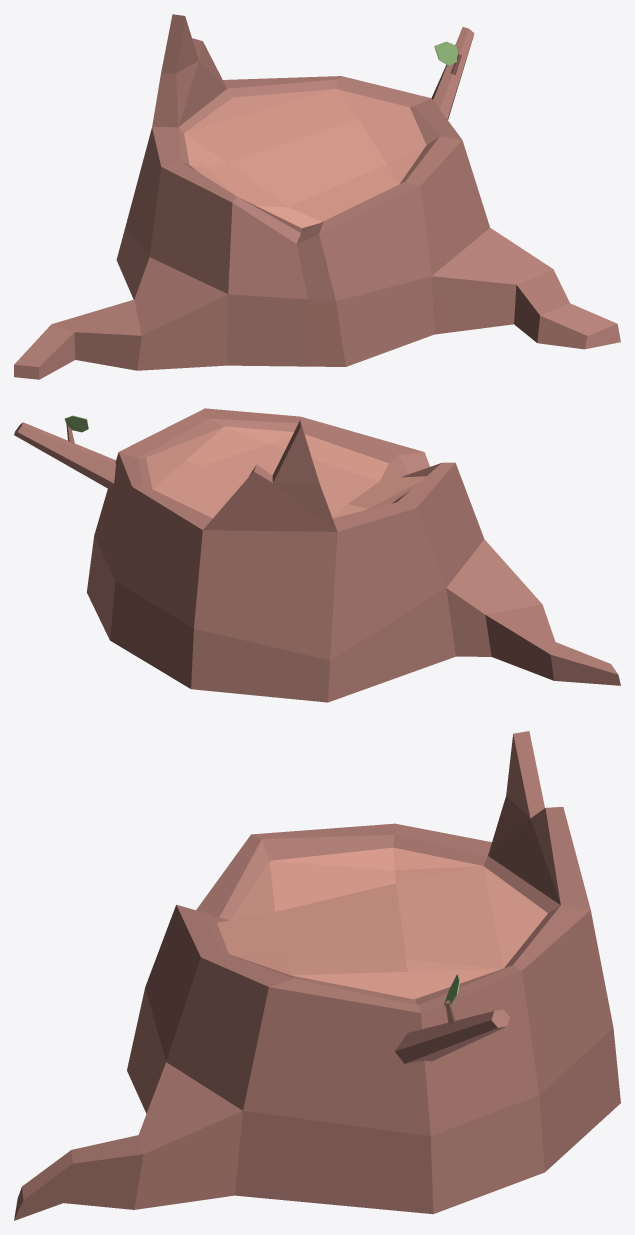
The model's file is stump.glb.
3 renders of one model, top to bottom at view 1: azimuth 30°, elevation 25°; view 2: azimuth 150°, elevation 25°; view 3: azimuth 270°, elevation 25°, orthographic. The views are drawn at different scales.
Visible parts, largest first — view 1: TreeStump; view 2: TreeStump; view 3: TreeStump.
Boxes of the visible parts, x1,y1,x2,y2 form: TreeStump: (14, 14, 620, 379); TreeStump: (14, 408, 620, 702); TreeStump: (14, 731, 620, 1220).
Size of the model in its own units: 1.36 by 0.6216 by 1.03.
